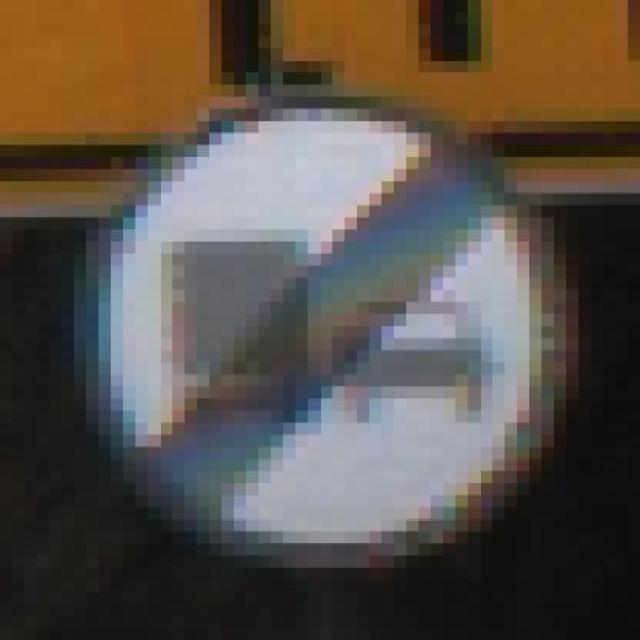Overtaking by trucks is prohibited: (49, 60, 591, 568)
